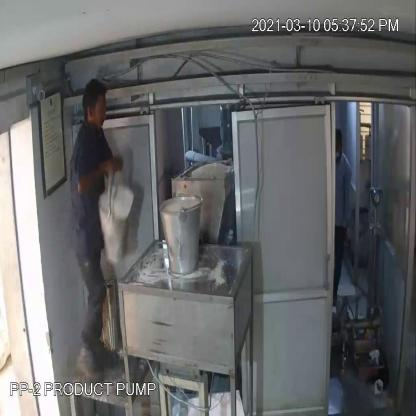no_glove: (71, 160, 123, 200)
